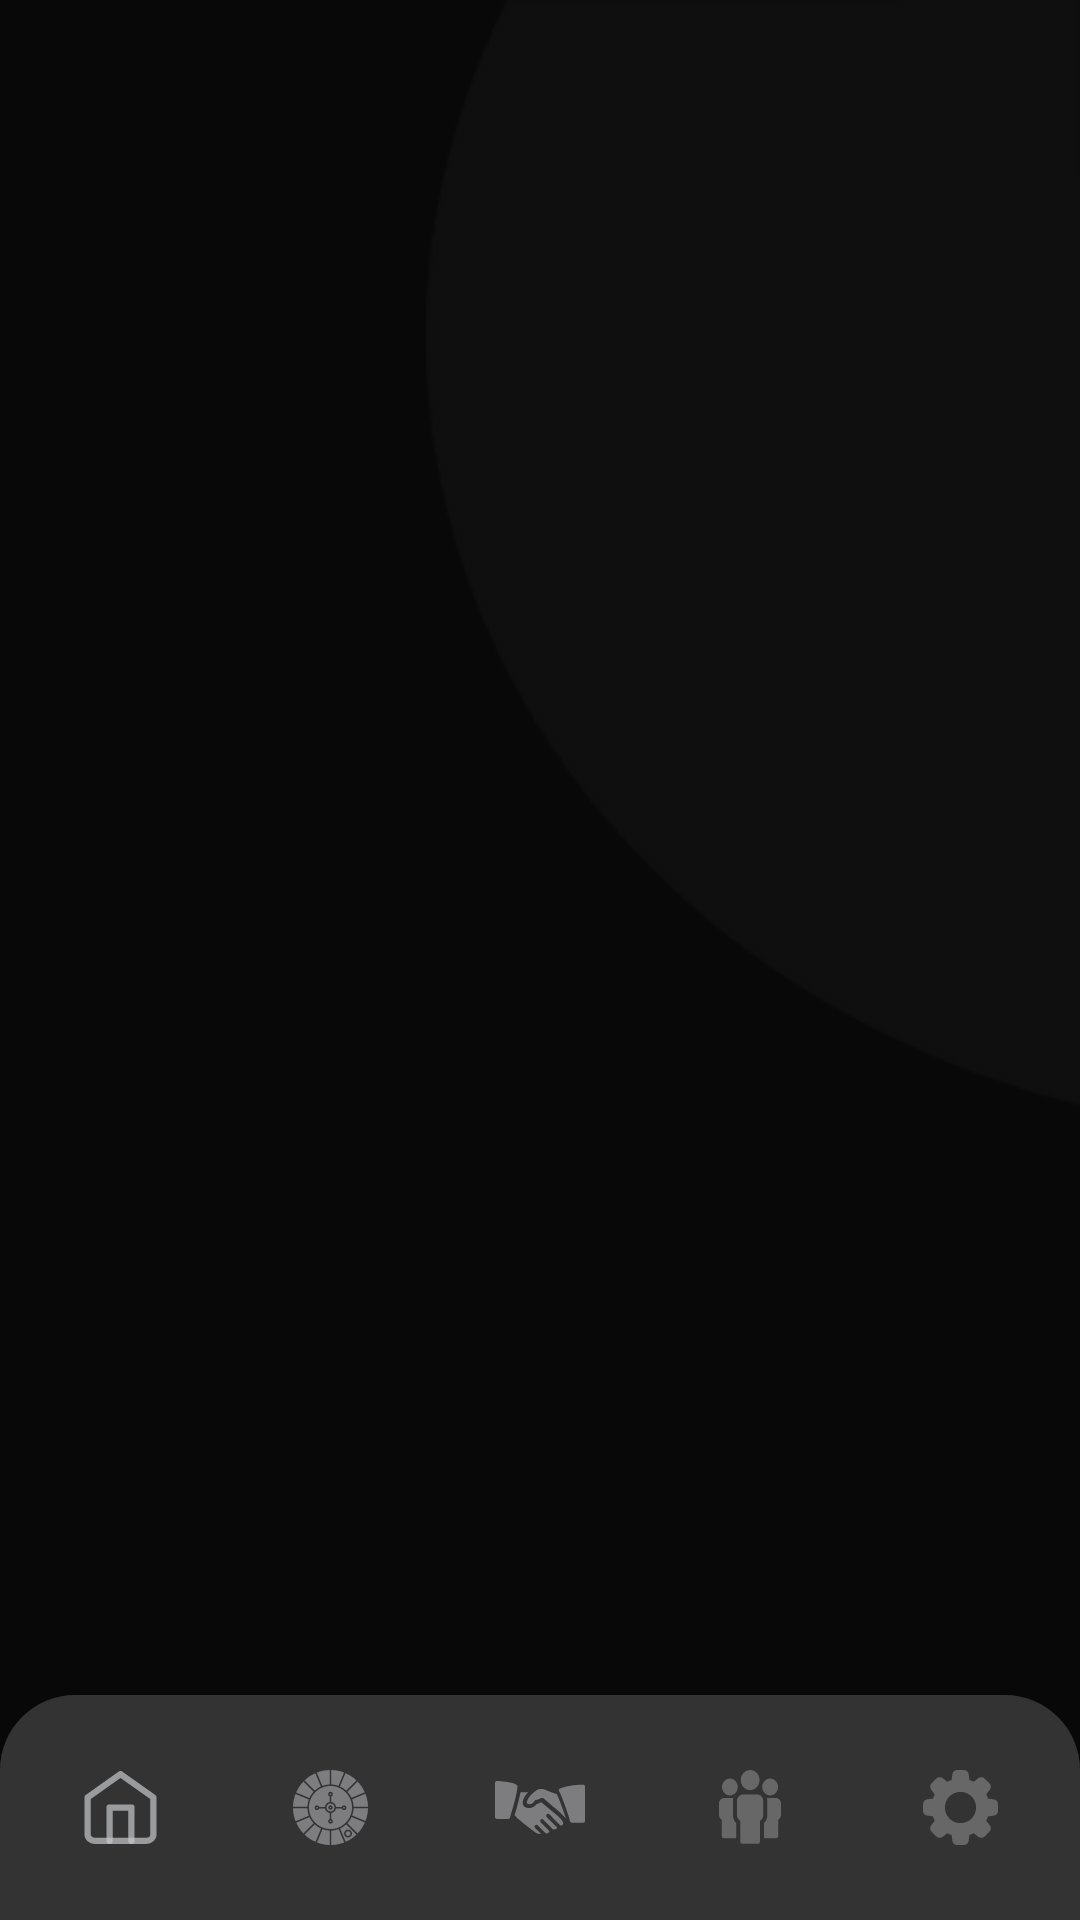

Icon click points for this 1080w x 1920h phone screenshot, format point (x, y):
buy sell: point (540, 1807)
casino: point (330, 1807)
home: point (120, 1807)
setting: point (960, 1807)
